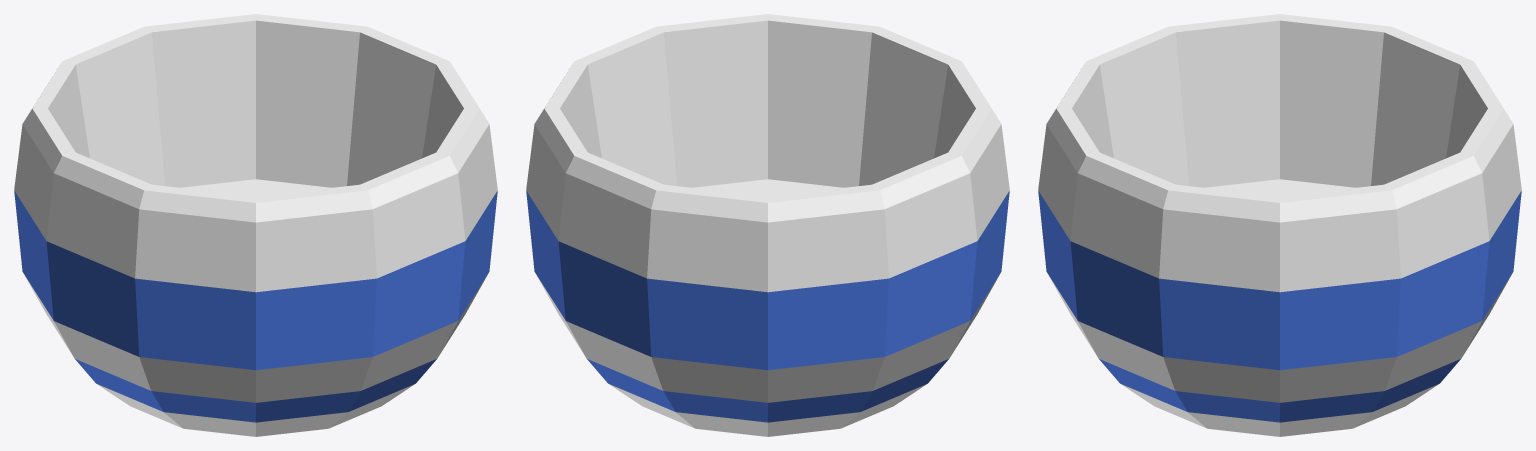
The model's file is Deep Dish_8.fbx.
3 renders of one model, left to right at view 1: azimuth 30°, elevation 25°; view 2: azimuth 150°, elevation 25°; view 3: azimuth 270°, elevation 25°, orthographic.
Parts seen in each view (by area): view 1: Deep Dish_8; view 2: Deep Dish_8; view 3: Deep Dish_8.
Part boxes in pixels (left/top/right/bottom): Deep Dish_8: left=14, top=14, right=497, bottom=436; Deep Dish_8: left=526, top=14, right=1009, bottom=436; Deep Dish_8: left=1038, top=14, right=1521, bottom=436.
Size of the model in its own units: 0.1778 by 0.1083 by 0.1778.
